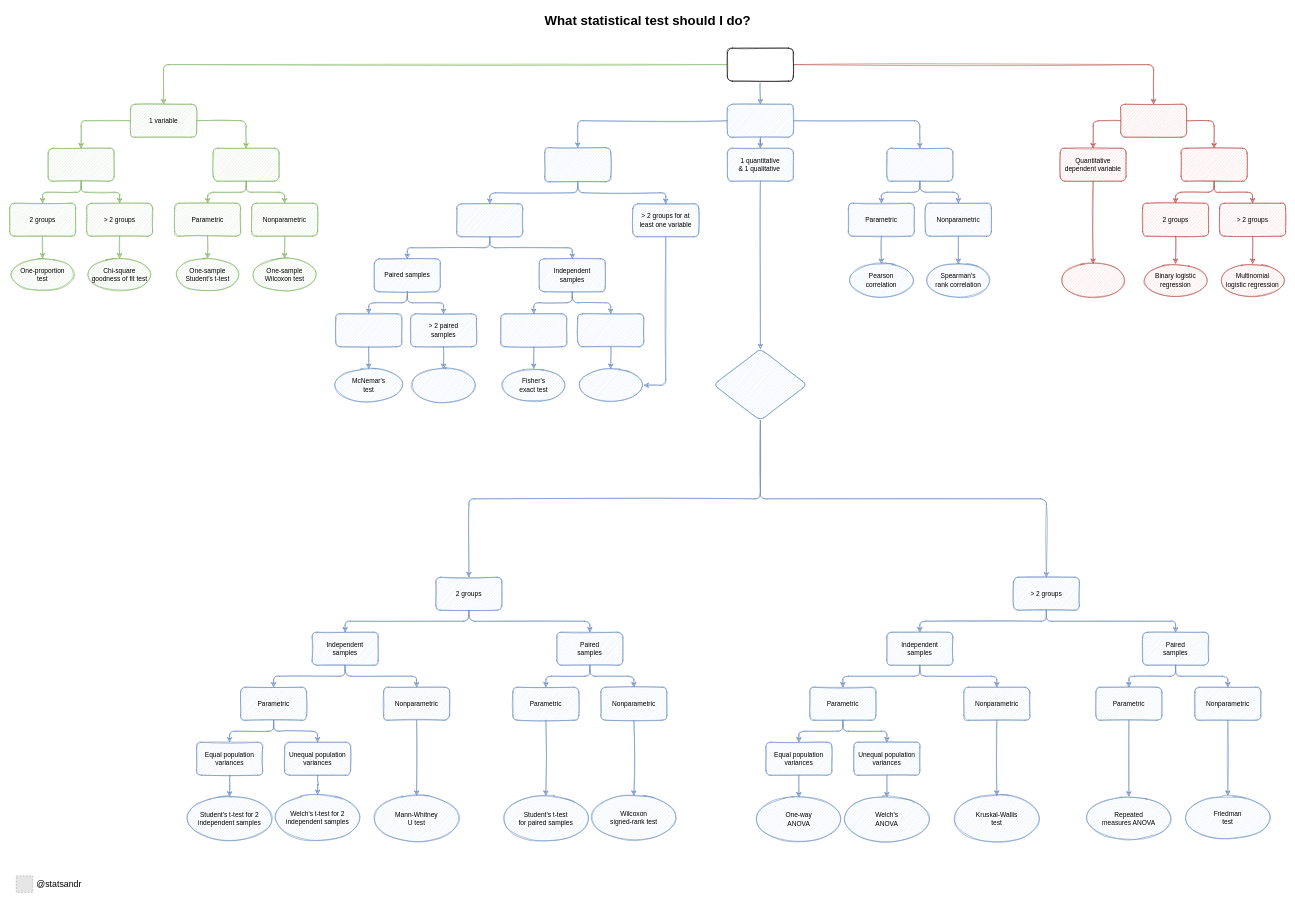
Some shapes in this 1295 by 904 pixel diagram are drawn without their labels. Grey dashed boxes stand in for pictures. The shapes that lost their labels are listed below. From the top down, each one's centre as x and y in pixels, then its label:
At (760,64): "How many variables?".
At (760,120): "2 variables".
At (1153,120): "> 2 variables".
At (81,164): "Qualitative".
At (246,164): "Quantitative".
At (577,164): "2 qualitative".
At (919,164): "2 quantitative".
At (1214,164): "Qualitative dependent variable".
At (489,220): "2 groups for each variable".
At (1093,280): "Multiple linear regression".
At (368,330): "2 paired samples".
At (533,330): "Expected frequencies < 5".
At (610,330): "Expected frequencies >= 5".
At (443,385): "Cochran's Q test".
At (610,385): "Chi-square test of independence".
At (760,384): "Number of groups/samples to compare?".
